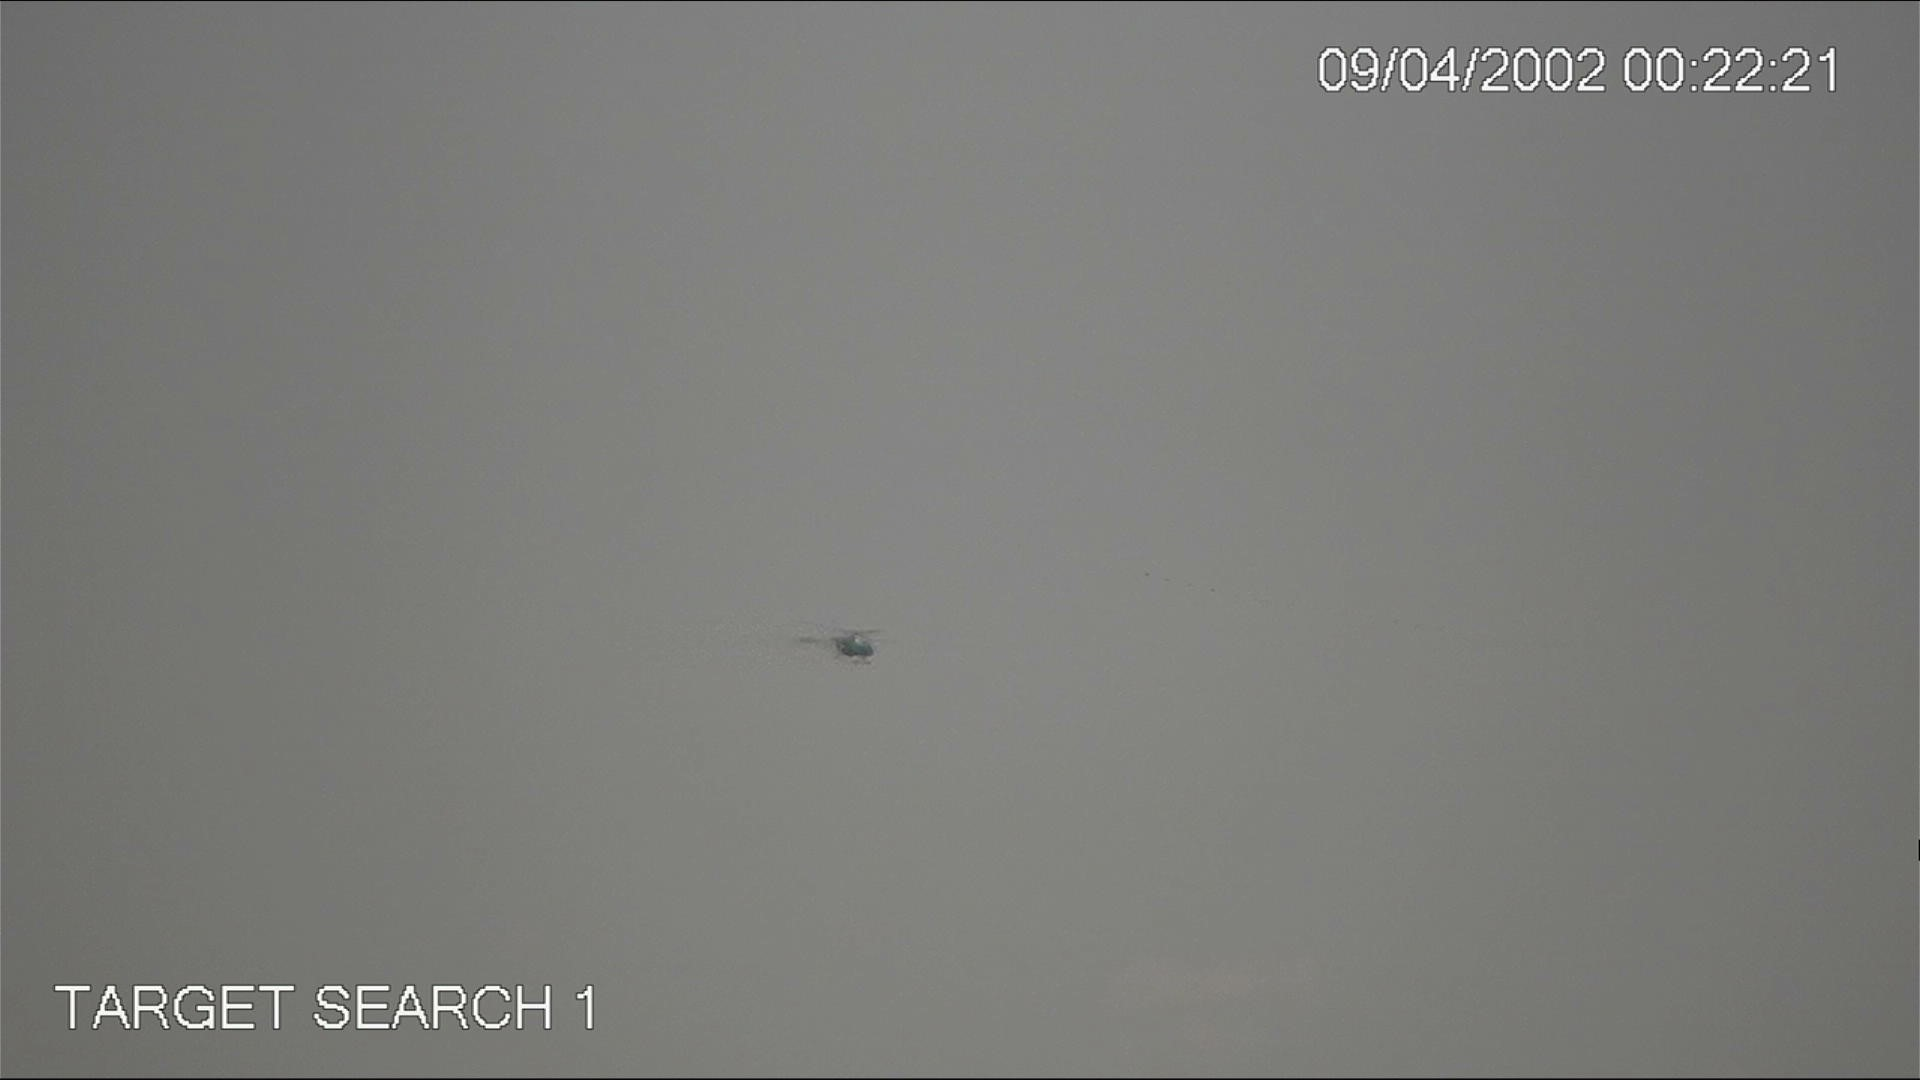SU_30: (794, 626, 884, 659)
